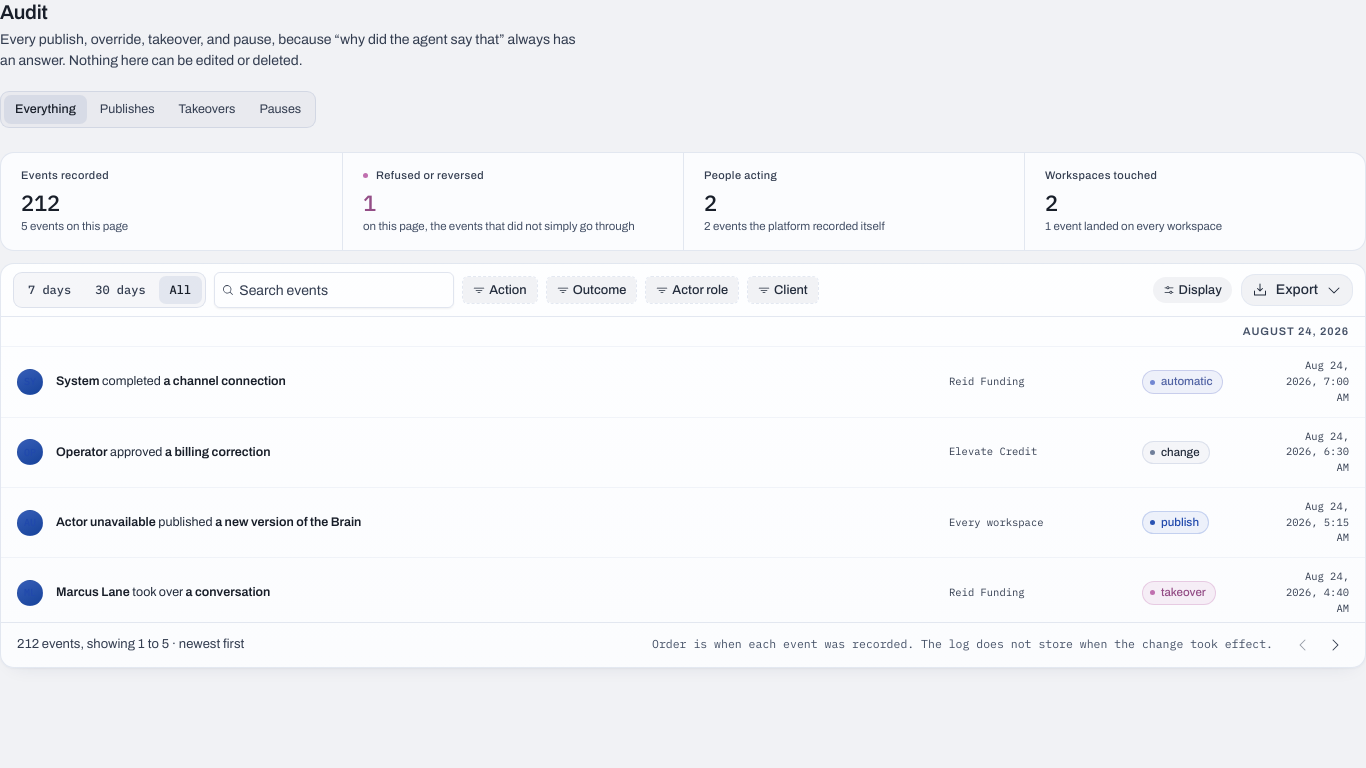
it: AdminAuditLog craft › states a publish's reach from the registry and names what it cannot know
What coordinates should you click on to do the following:
click the button with aria-label "Open event detail: Published a new version of the Brain"
I would click on:
 (106, 522)
Its box is left=1, top=488, right=1365, bottom=558.
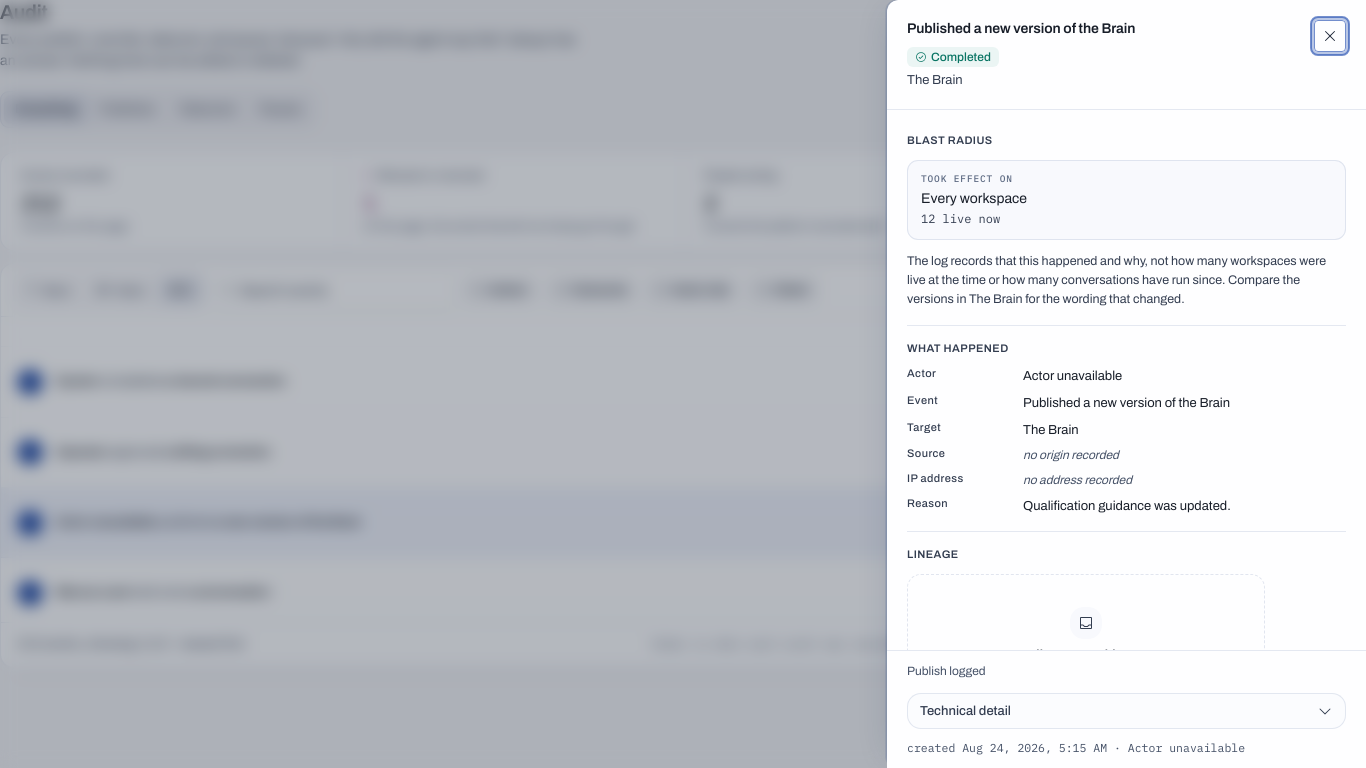
Result: the heading "Blast radius" is shown at left=907, top=134, right=993, bottom=148
Result: the text "Every workspace" is shown at left=921, top=191, right=1027, bottom=206
Result: the text "12 live now" is shown at left=921, top=211, right=1000, bottom=226
